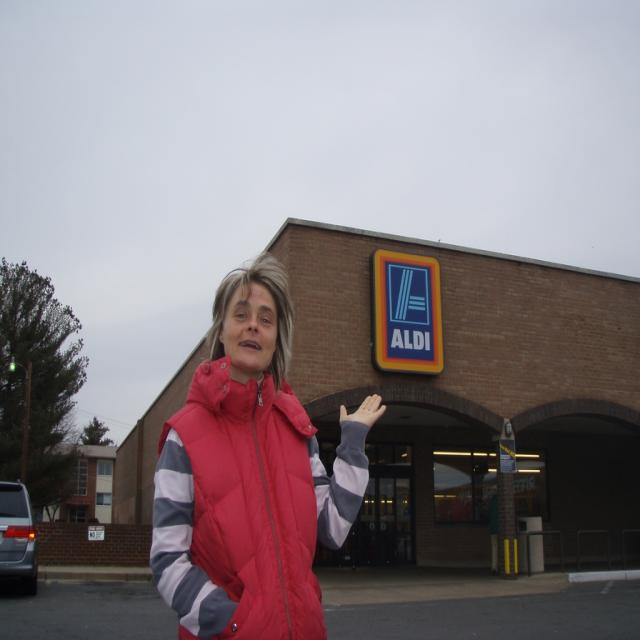aldi: (375, 251, 444, 373)
